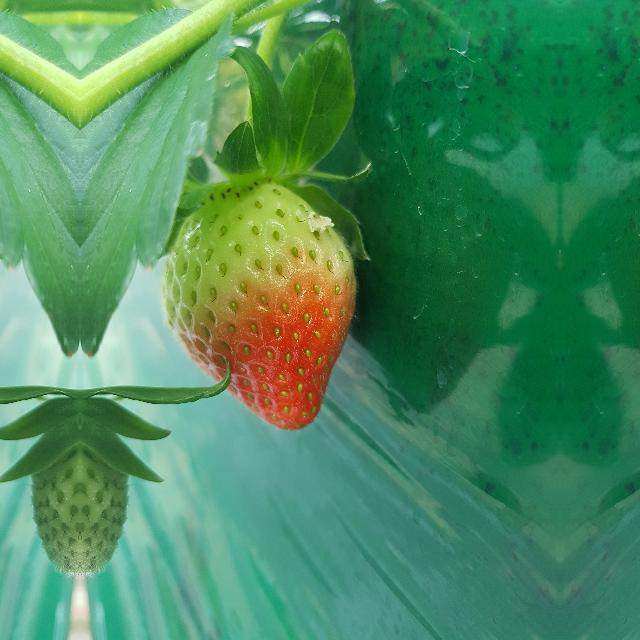Health_50: (163, 182, 357, 430)
